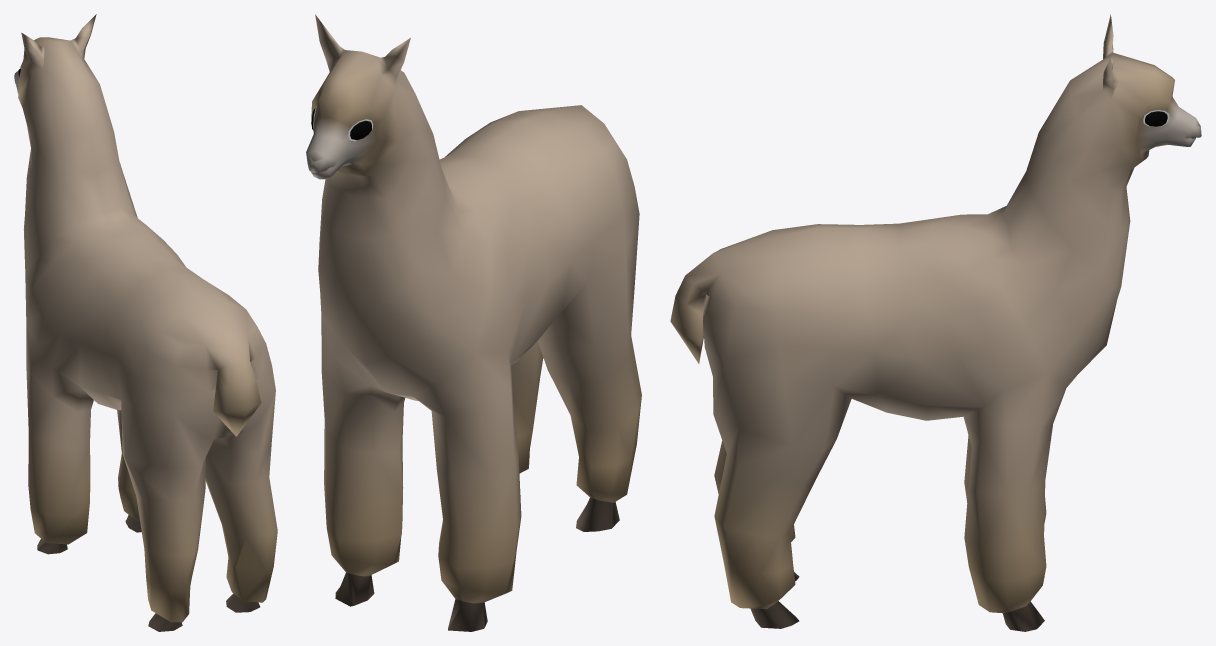
Rendered from Alpacca.min.glb.
3 views of the same model, side by side, from view 1: azimuth 30°, elevation 25°; view 2: azimuth 150°, elevation 25°; view 3: azimuth 270°, elevation 25° (orthographic). The views are drawn at different scales.
Parts seen in each view (by area): view 1: Alpacca; view 2: Alpacca; view 3: Alpacca.
Part boxes in pixels (x1=…): Alpacca: x1=14, y1=14, x2=277, y2=631; Alpacca: x1=306, y1=14, x2=641, y2=631; Alpacca: x1=670, y1=14, x2=1201, y2=631.
Size of the model in its own units: 0.5378 by 1.65 by 1.41.
